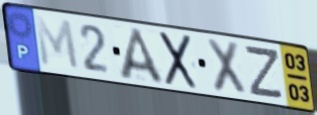2: (79, 23, 112, 76)
A: (118, 25, 168, 87)
M: (33, 14, 83, 74)
X: (204, 36, 249, 99), (158, 30, 199, 92)
Z: (244, 45, 285, 102)
